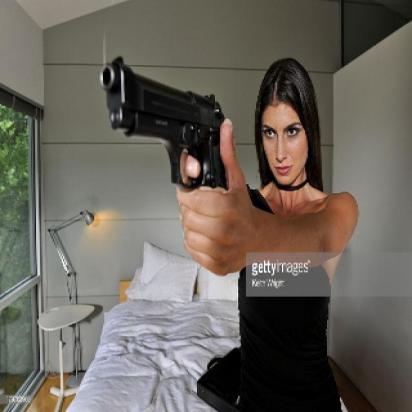Gun: (97, 51, 229, 190)
